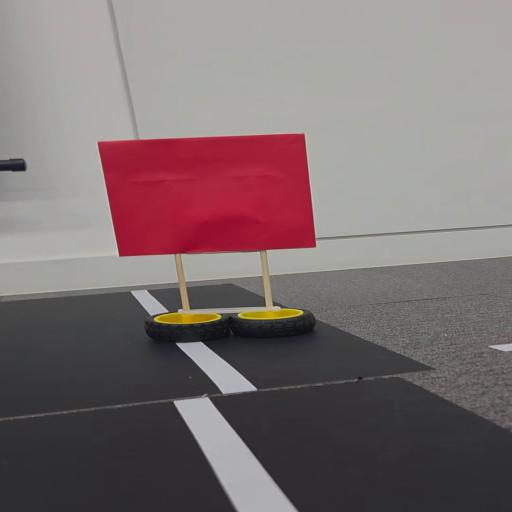Sign_A: (87, 120, 362, 350)
